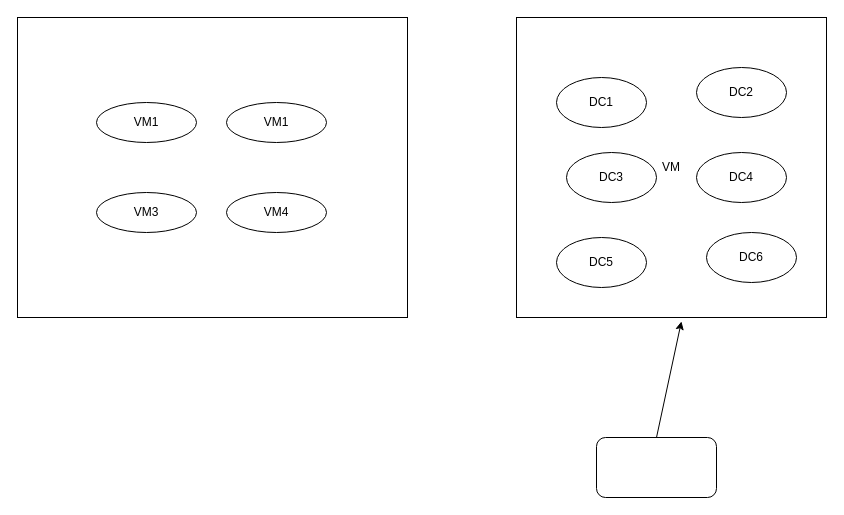
Image size: 844x515. Some labels were removed from this diagram. Here are the shapes that lost their labels. From the top down, the box of each, then its label:
(16, 16, 408, 318): Monolithic WebApp Cluster
(596, 436, 716, 498): Kubernetes
